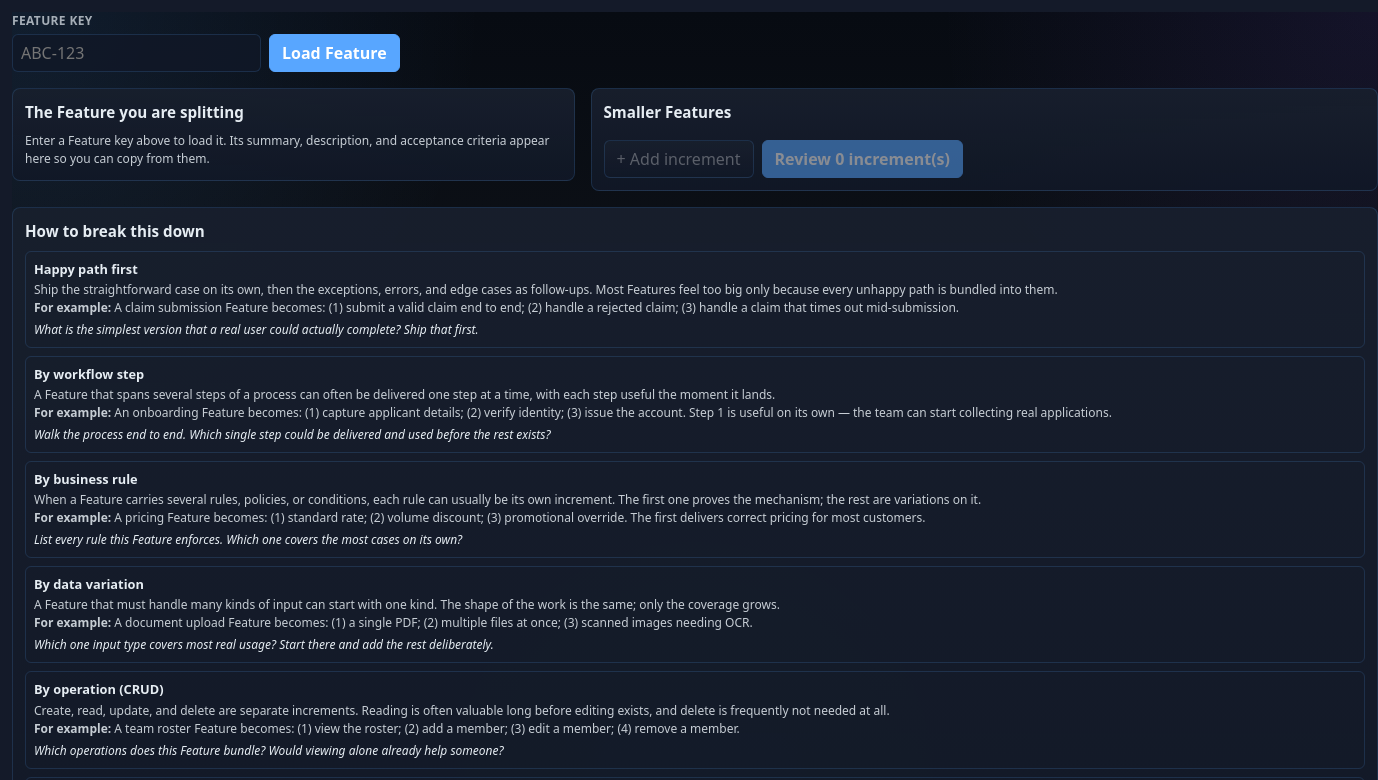
FeatureSplitterTab — loading the original › reports a load failure with Jira's reason, keeping the tab usable
In the field labelled "Feature key": (136, 53) [12,34,261,72], type "ABC-1"
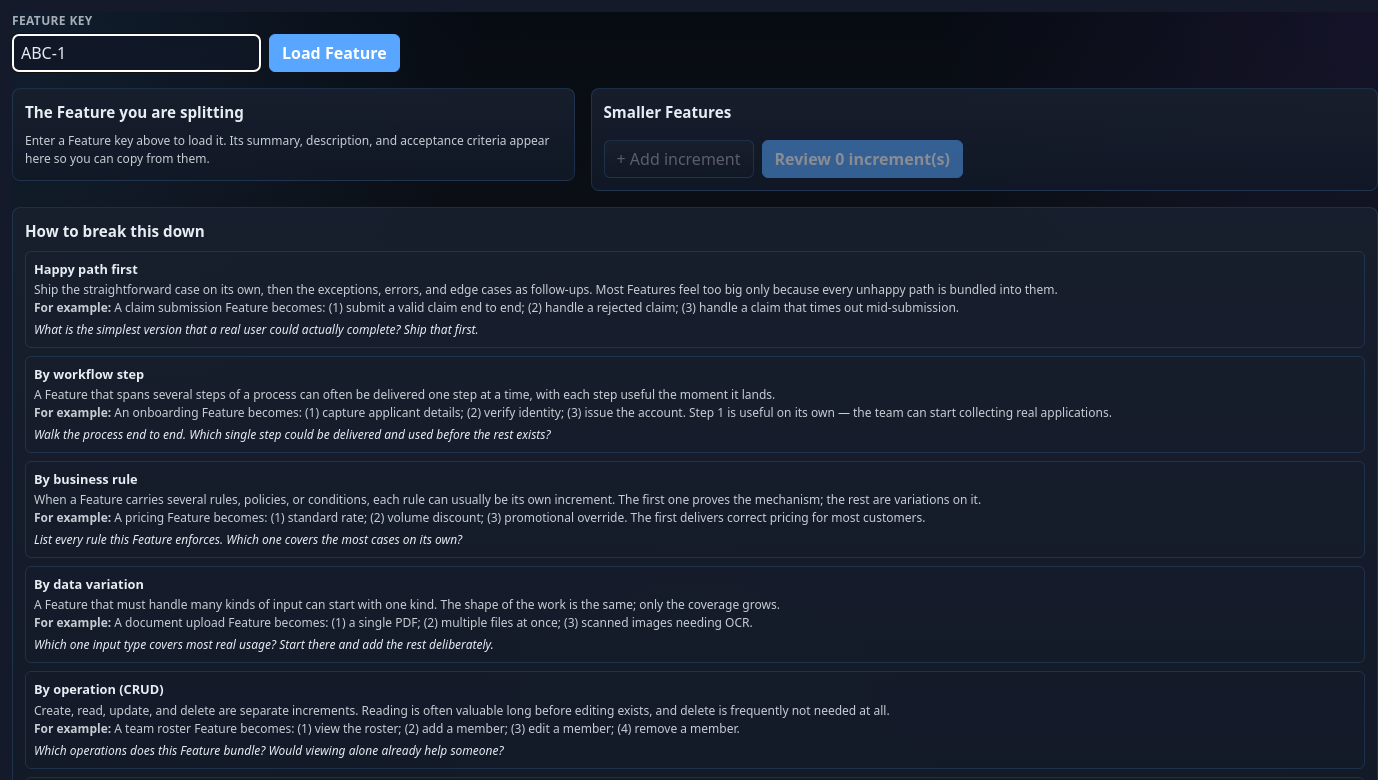
Click the button "Load Feature": (334, 53) [269,34,400,72]
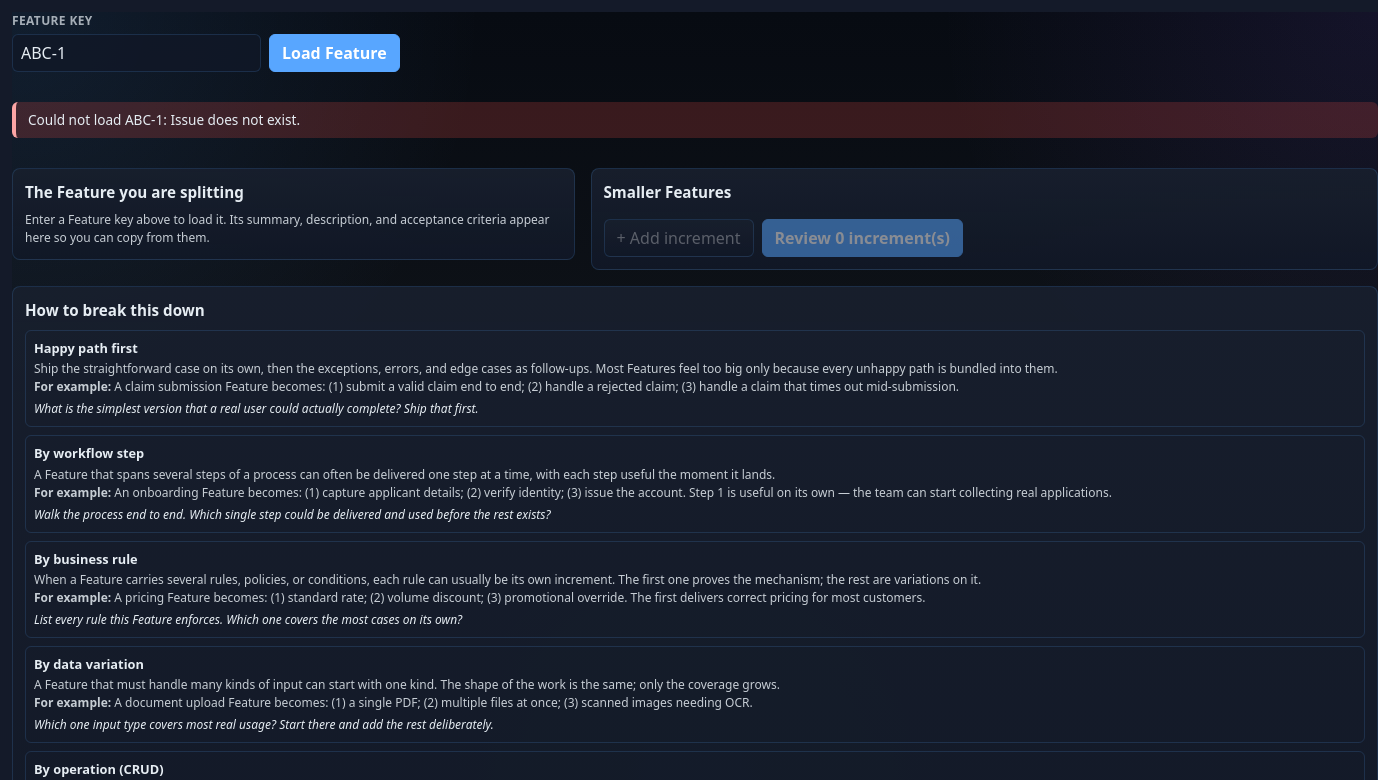
Expected: the text "Could not load ABC-1: Issue does not exist." is shown, [12,102,1377,138]
